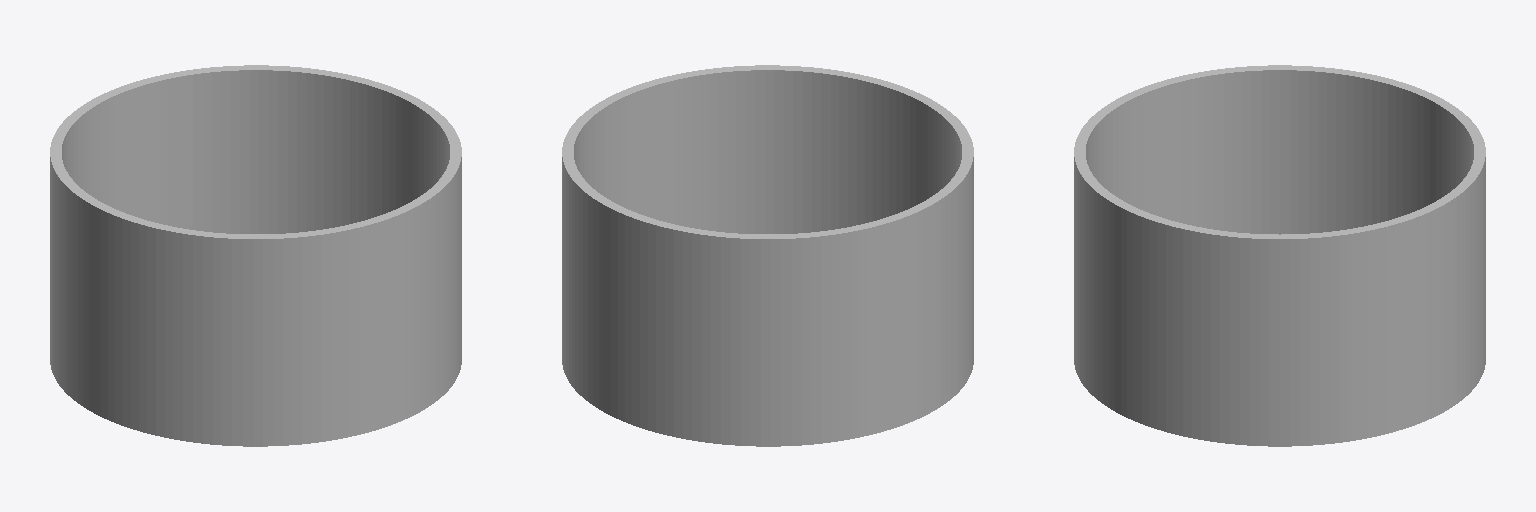
Rendered from reflector.obj.
3 renders of one model, left to right at view 1: azimuth 30°, elevation 25°; view 2: azimuth 150°, elevation 25°; view 3: azimuth 270°, elevation 25°, orthographic.
Parts seen in each view (by area): view 1: Cylinder; view 2: Cylinder; view 3: Cylinder.
Part boxes in pixels (x1,y1,x2,y2): Cylinder: (50,65,461,446); Cylinder: (562,65,973,446); Cylinder: (1074,65,1485,446).
Bounding box in the file's own units: 3.6 × 2 × 3.6.